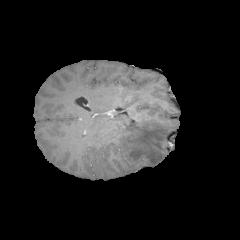glioma: (115, 110, 171, 171)
